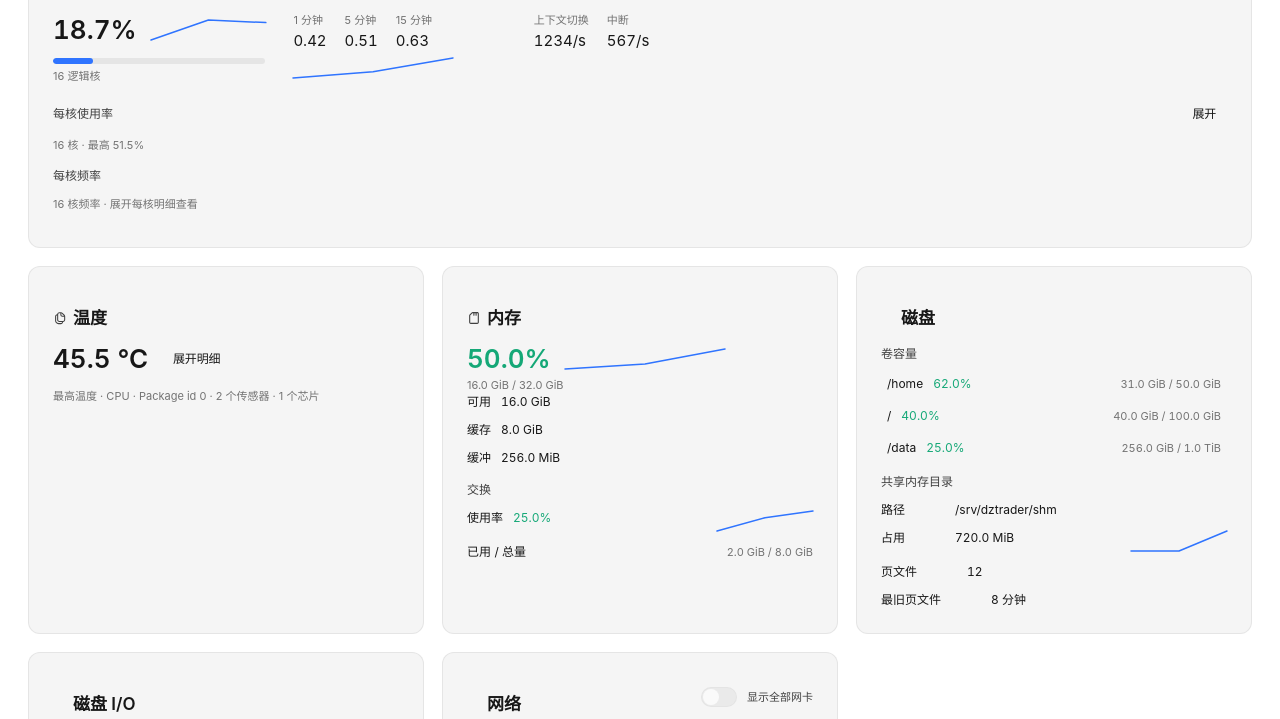
MonitorView 跳转历史（#127：点击 sparkline / 数值预选指标） › 点击数值切到历史视图并预选该指标（查询由历史视图挂载时发起）
(page scrolled)
Click the button with test id "monitor-memory-value": (509, 359) [467,341,551,377]
(page scrolled)
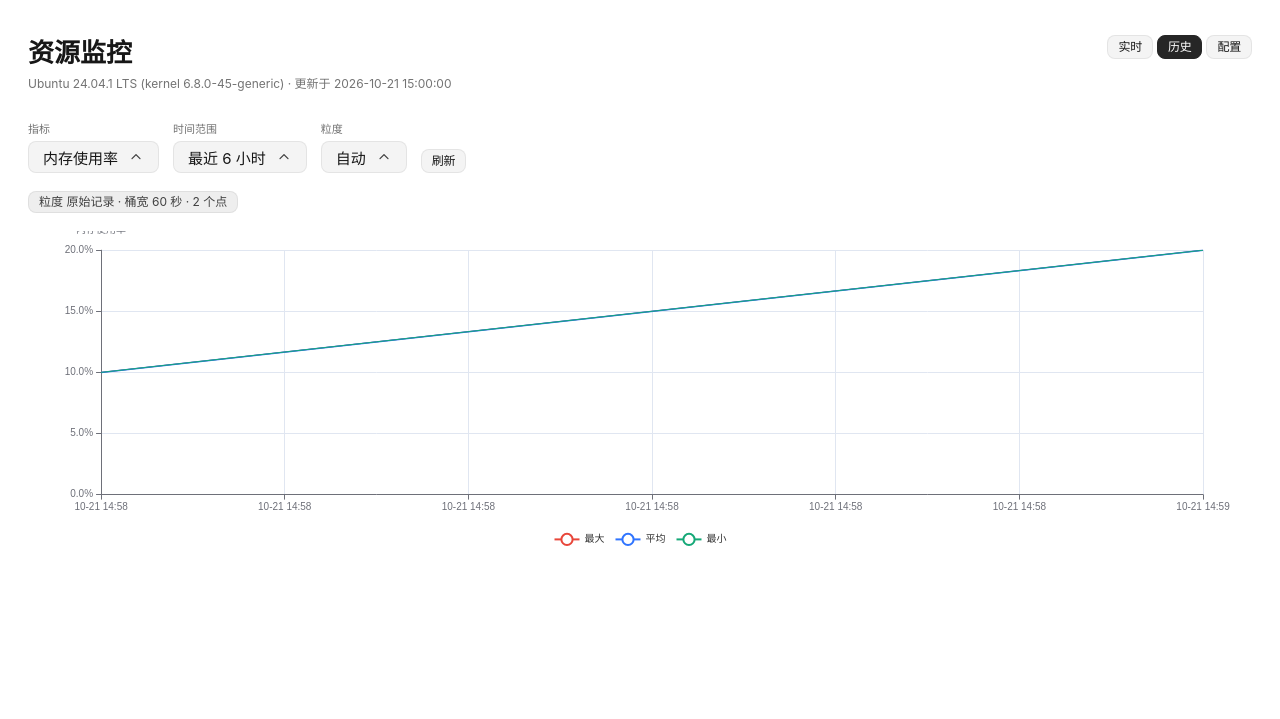
Now the element with test id "sysmon-history" is shown, box [28,121,1252,551]
